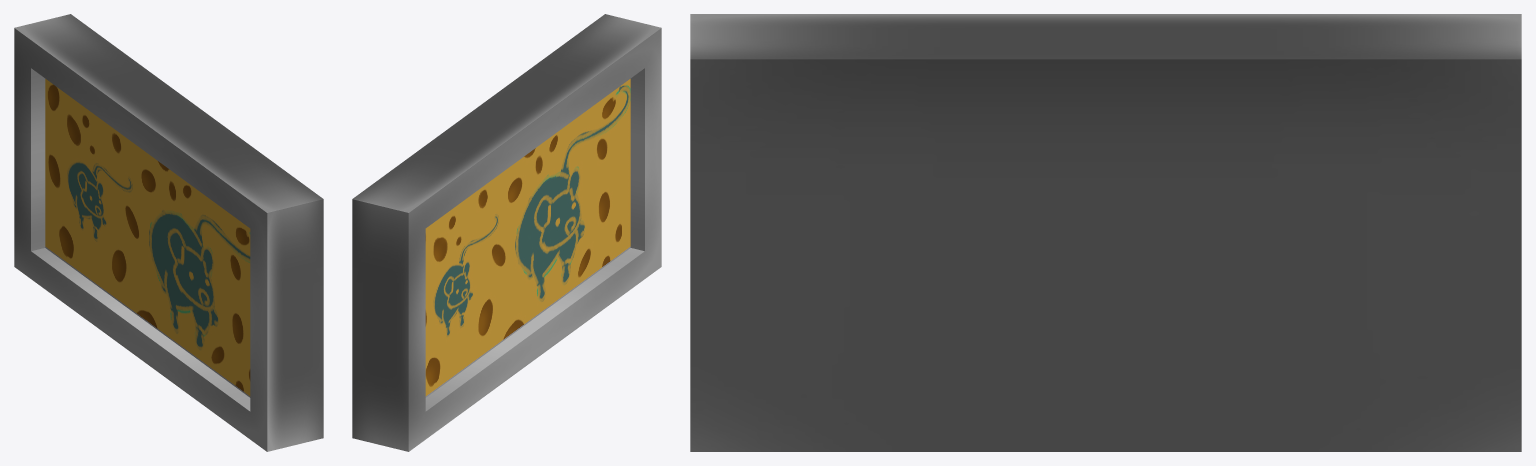
Rendered from Frame.fbx.
3 views of the same model, side by side, from view 1: azimuth 30°, elevation 25°; view 2: azimuth 150°, elevation 25°; view 3: azimuth 270°, elevation 25° (orthographic). The views are drawn at different scales.
Visible parts, largest first — view 1: FRAME, FRAME.002; view 2: FRAME, FRAME.002; view 3: FRAME.
Part boxes in pixels (bbox=[...]): FRAME: bbox=[14, 14, 323, 451]; FRAME.002: bbox=[45, 79, 250, 397]; FRAME: bbox=[352, 14, 661, 451]; FRAME.002: bbox=[425, 79, 630, 397]; FRAME: bbox=[690, 14, 1521, 451].
Bounding box in the file's own units: 0.6588 × 2.66 × 5.1.
Materials: 1 (1 with a texture image).
